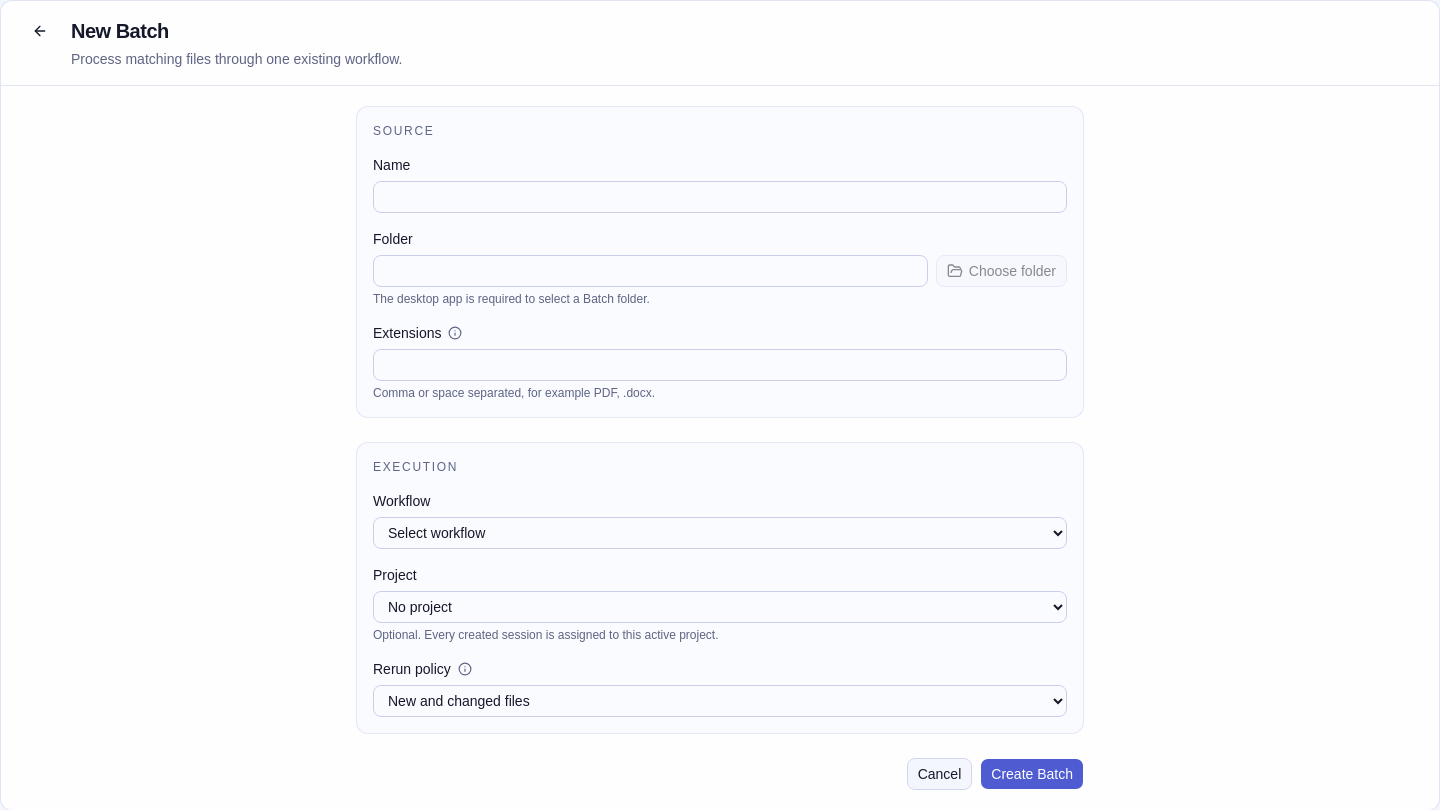
Test: BatchForm › explains every rerun policy through an accessible information tooltip
Hover over the button named "Help: rerun policy" at [465, 669], box [455,659,475,679]
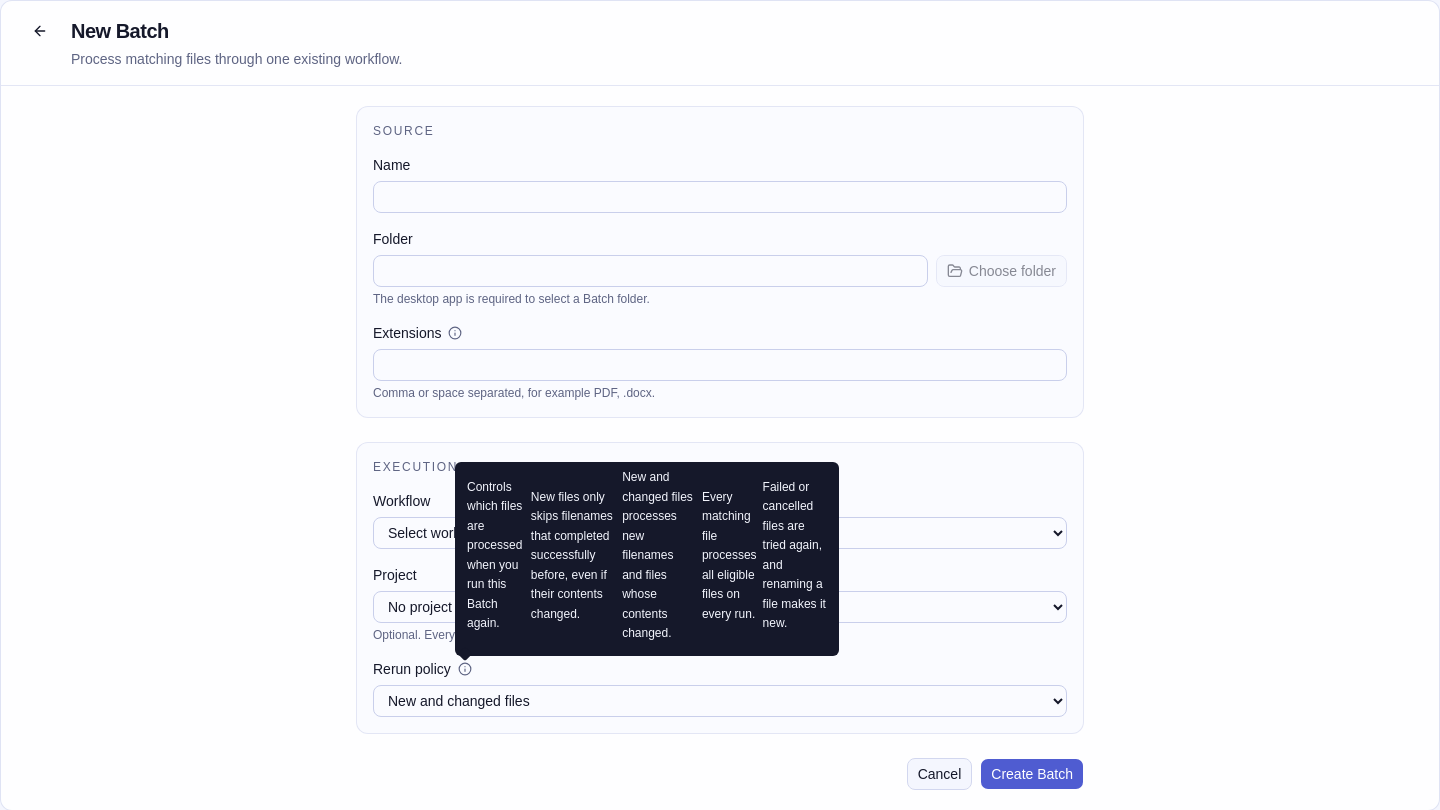
Expected: the text "Controls which files are processed when you run this Batch again" is shown, [467,480,522,630]
Expected: the text "New files only skips filenames that completed successfully before, even if their contents changed" is shown, [455,462,839,656]
Expected: the text "New and changed files processes new filenames and files whose contents changed" is shown, [455,462,839,656]
